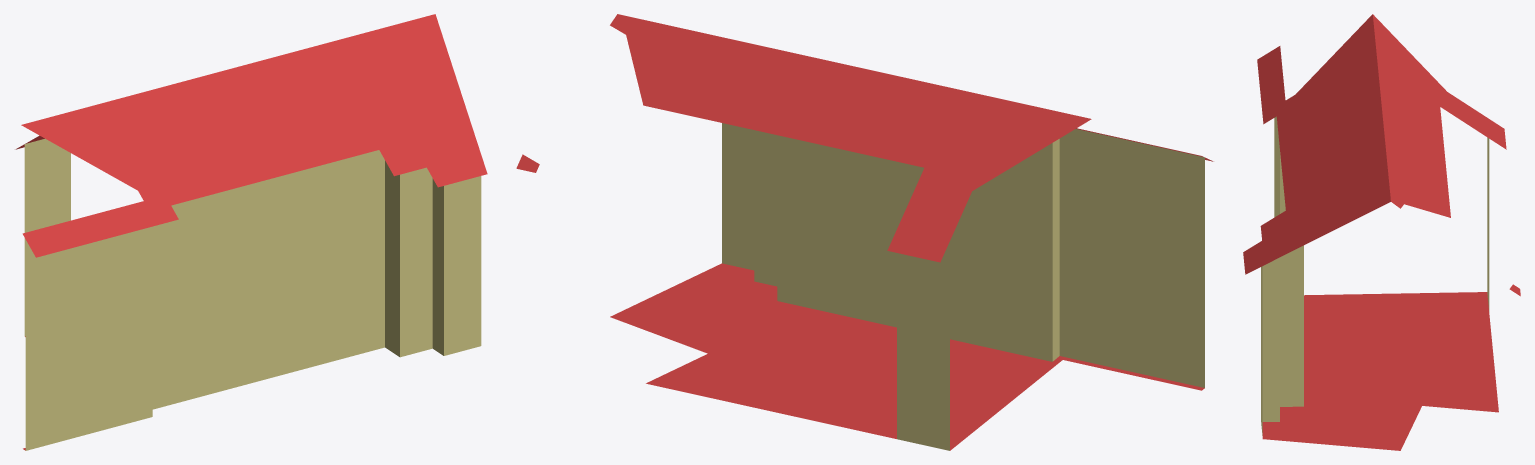
3 views of the same model, side by side, from view 1: azimuth 30°, elevation 25°; view 2: azimuth 150°, elevation 25°; view 3: azimuth 270°, elevation 25° (orthographic). The views are drawn at different scales.
Size of the model in its own units: 22.49 by 12.04 by 11.89.
